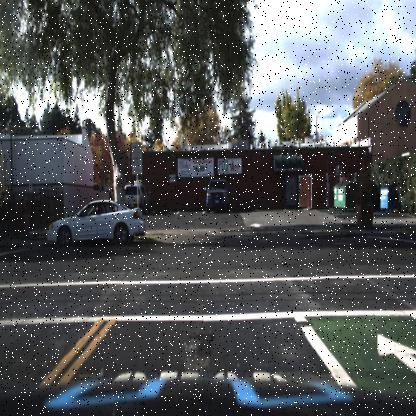car: (45, 188, 151, 260), (201, 174, 232, 215), (117, 182, 146, 206)
